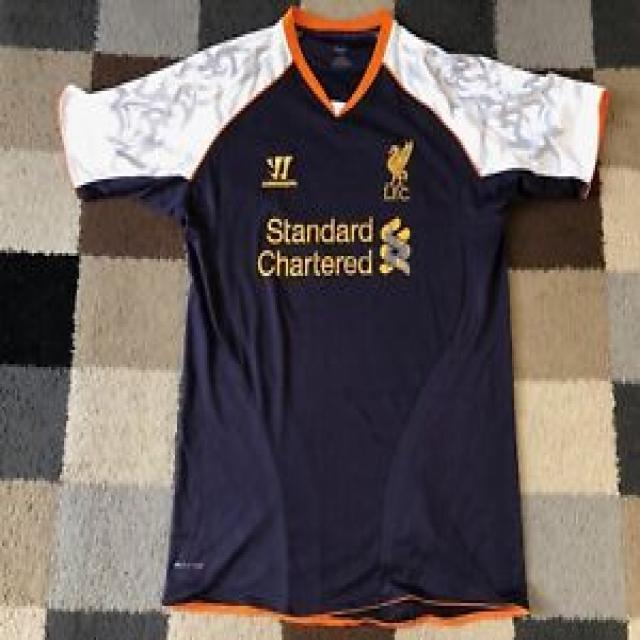Standard Chartered: (260, 212, 410, 280)
